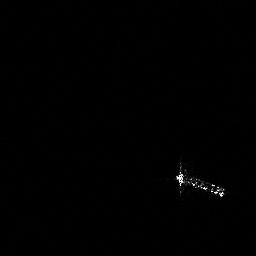ship: (172, 157, 230, 201)
